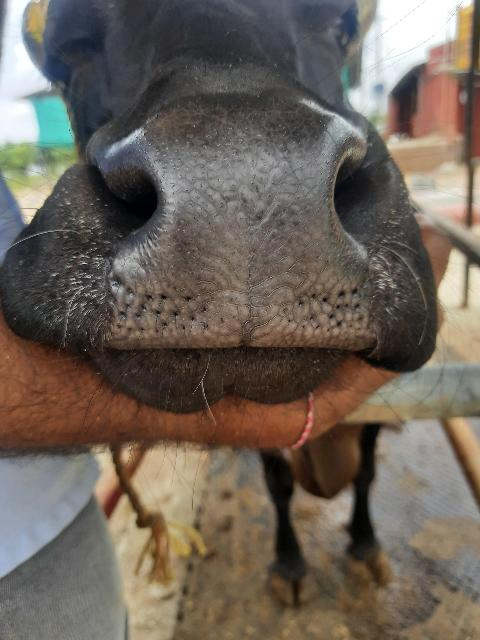Muzzle: (129, 122, 375, 344)
